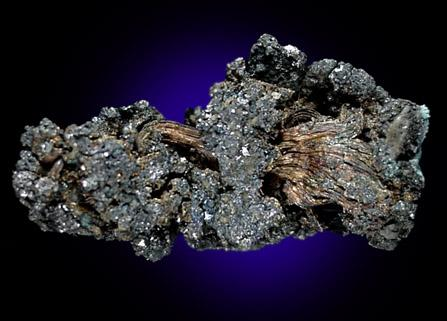silver: (13, 35, 429, 260)
